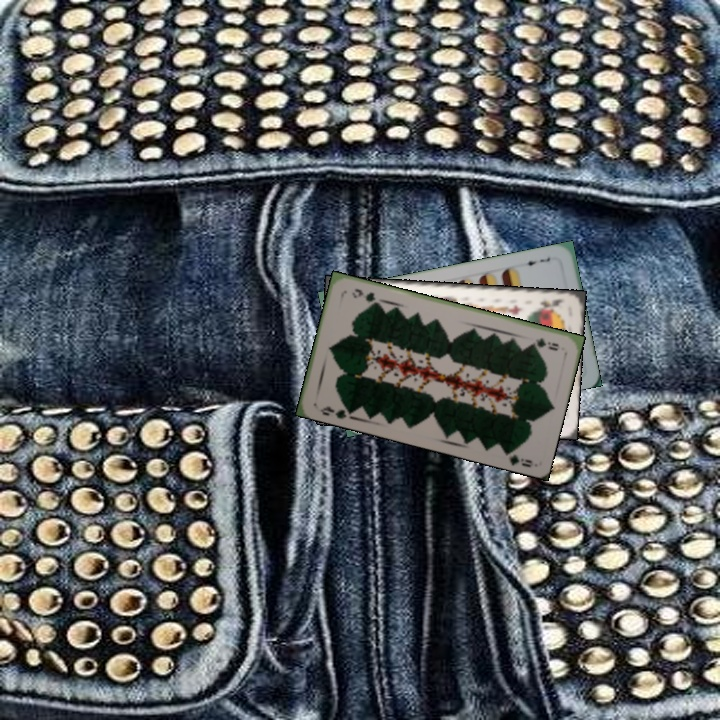E7: (519, 253, 553, 268)
G9: (316, 402, 354, 421), (526, 334, 562, 353)
SK: (536, 295, 567, 312)
